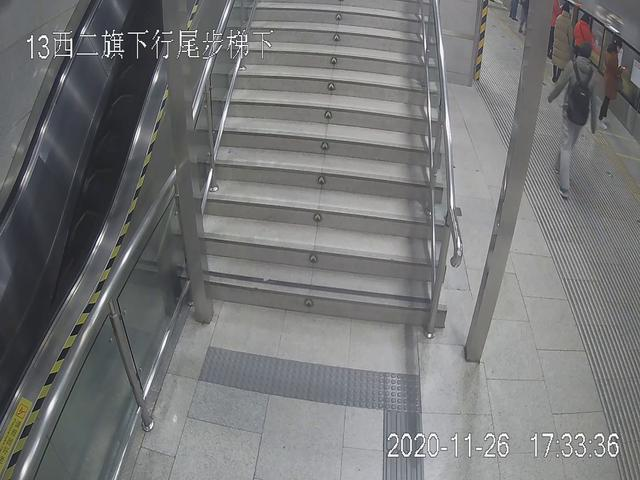person: (553, 44, 599, 198), (599, 37, 624, 135), (555, 1, 579, 79)
